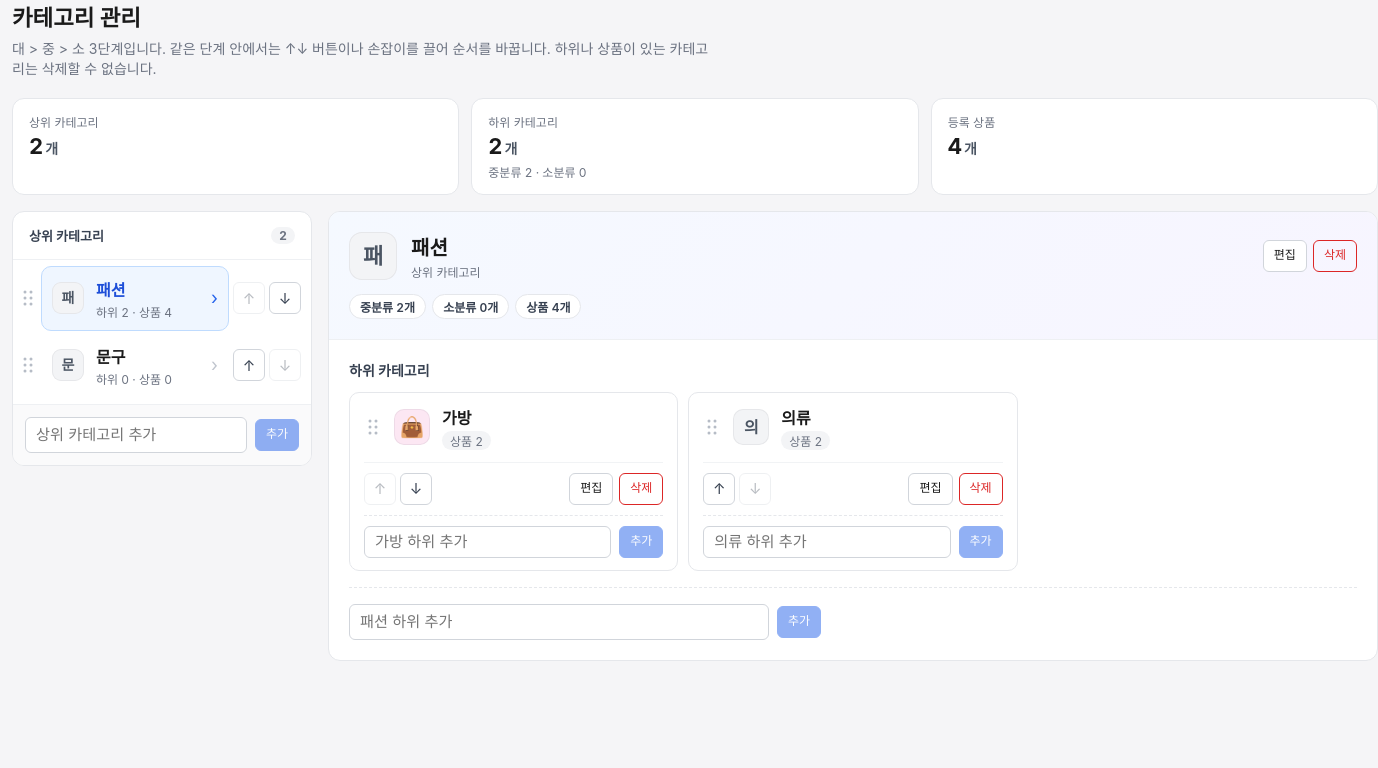
it: CategoriesPage › renders an icon tile before each name (emoji or first letter)
Expected: the text with test id "category-tile" reads "👜", top-left (400, 415), bottom-right (424, 439)
Click the button "문 문구 하위 0 · 상품 0 ›" at (135, 365), box top-left (41, 333), bottom-right (229, 398)
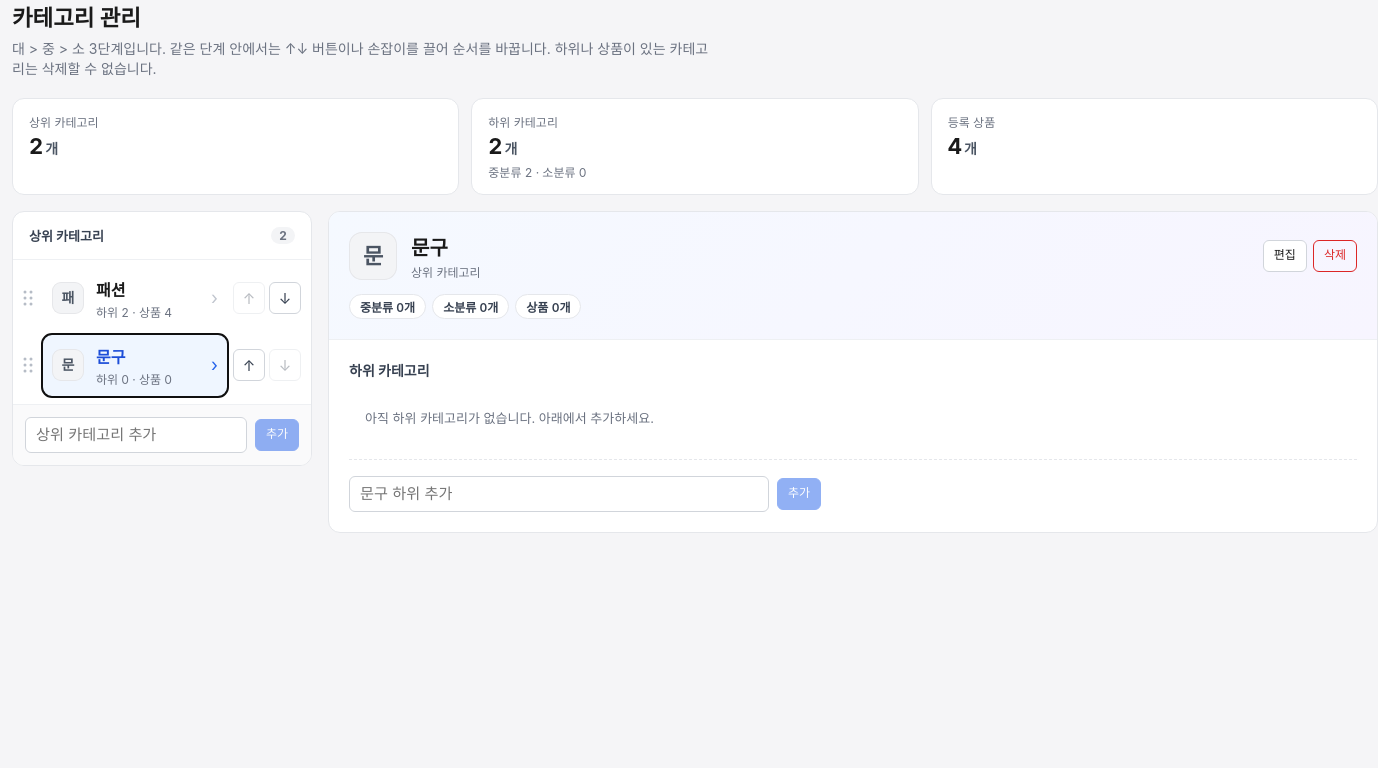
Result: the 1st text with test id "category-tile" reads "문" at top-left (363, 243), bottom-right (383, 269)
